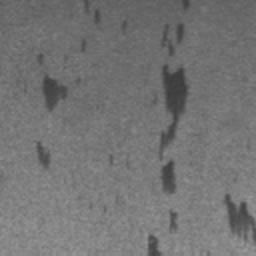Red iron sheet: (159, 22, 189, 195), (223, 193, 256, 243), (41, 74, 68, 111), (82, 0, 101, 23), (35, 140, 50, 168), (146, 236, 161, 256), (169, 210, 178, 232), (180, 0, 192, 13), (36, 54, 45, 65), (81, 38, 87, 54)
